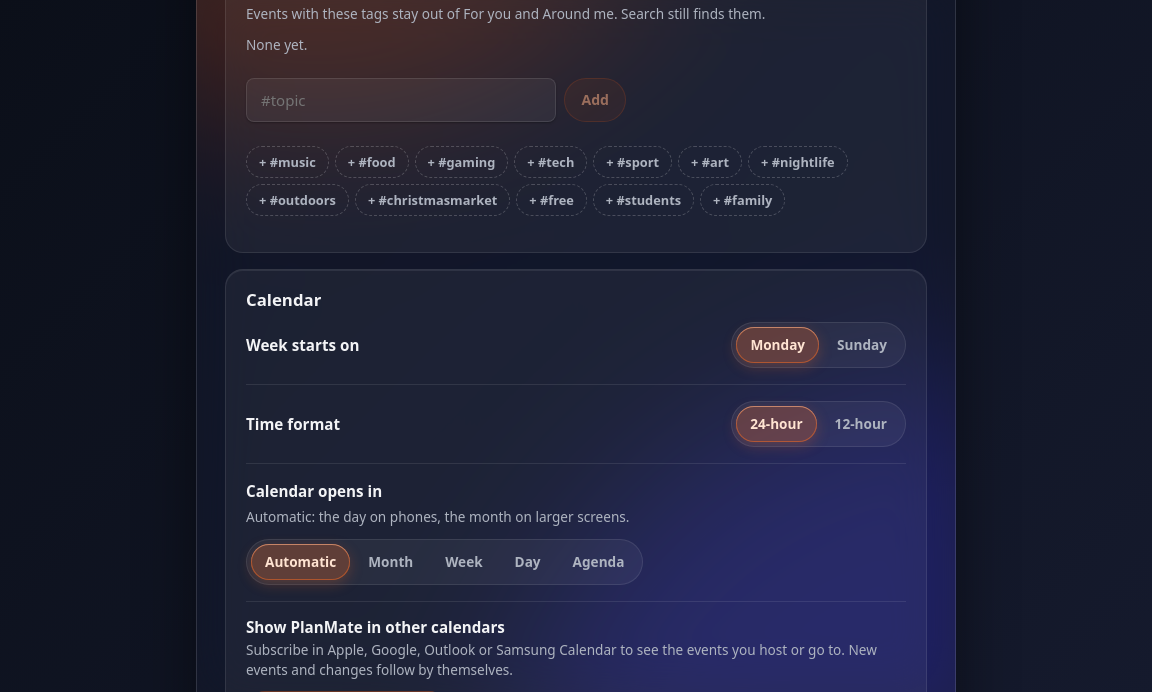
Test: a refused change goes back and says why
(page scrolled)
Click the radio button labelled "Sunday": (862,345) [837,335,887,354]
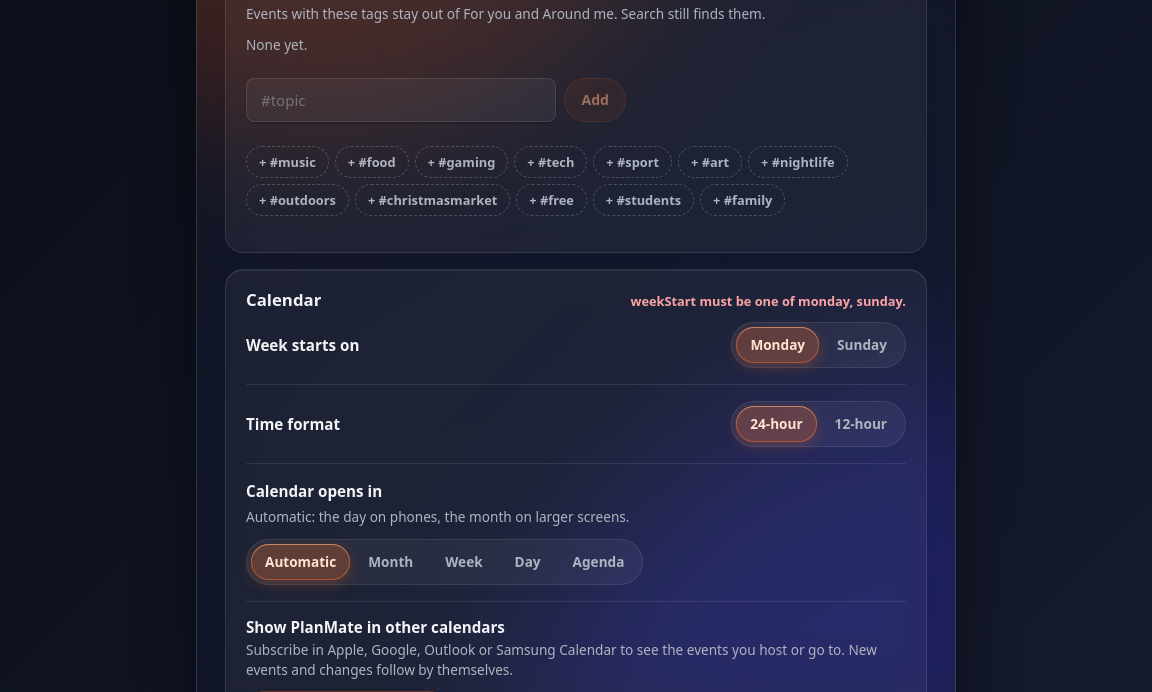
Expected: the radio button labelled "Monday" is checked, [736,327,819,363]
Now the text "weekStart must be one of monday, sunday." is shown, box [630,292,906,311]
